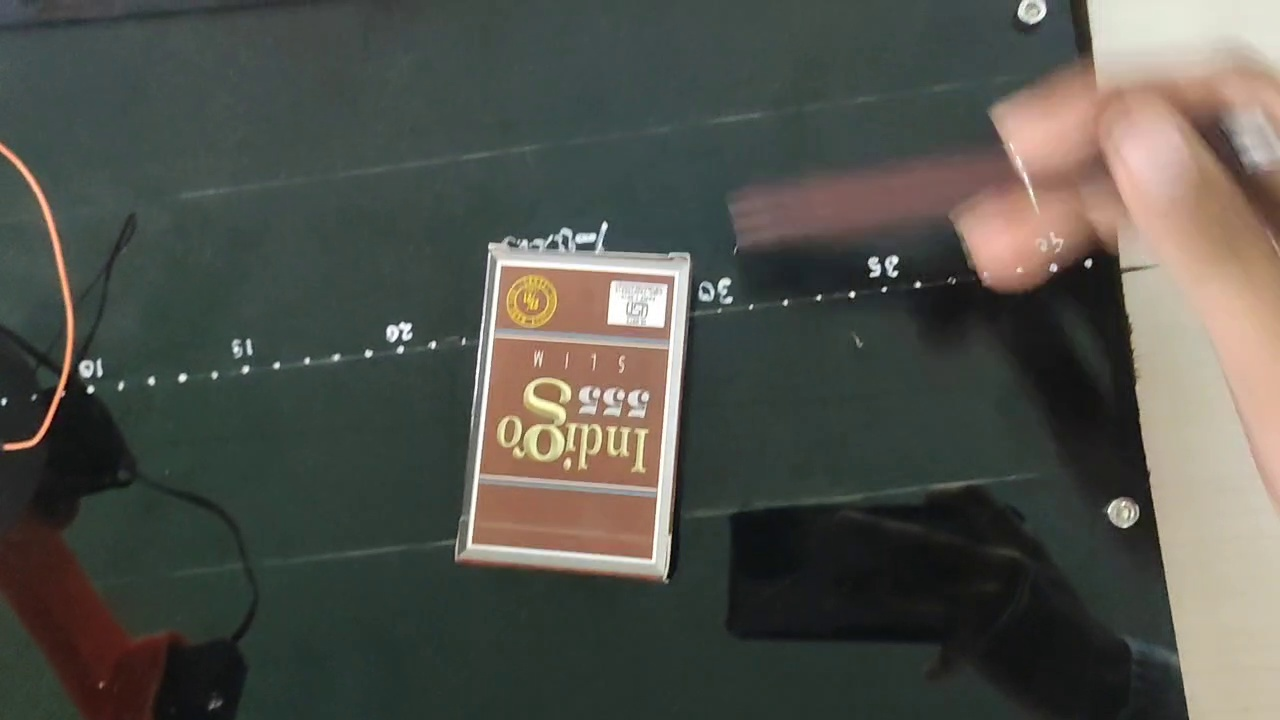BEX: (471, 258, 673, 562)
